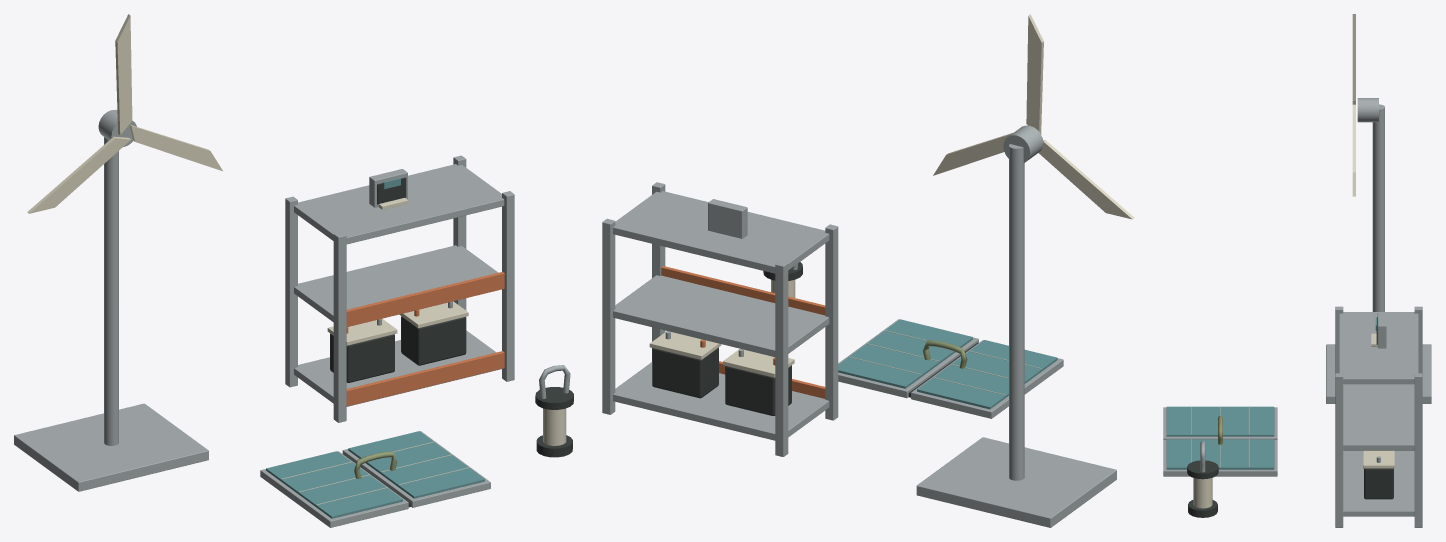
The model's file is off-grid-power-and-controls-renewable-camp-power-62a1dfba__3032.glb.
The picture shows the model from 3 angles, left to right: view 1: azimuth 30°, elevation 25°; view 2: azimuth 150°, elevation 25°; view 3: azimuth 270°, elevation 25°; orthographic projection. The views are drawn at different scales.
Visible parts, largest first — view 1: 002-battery-rack/0, 001-micro-wind-turbine/0, 000-folding-solar-panel/1, 002-battery-rack/1, 001-micro-wind-turbine/1, 000-folding-solar-panel/0, 004-lead-acid-battery/0, 003-lead-acid-battery/0, 006-hanging-lantern/0, 004-lead-acid-battery/1, 003-lead-acid-battery/1, 006-hanging-lantern/1; view 2: 002-battery-rack/0, 001-micro-wind-turbine/0, 000-folding-solar-panel/1, 001-micro-wind-turbine/1, 000-folding-solar-panel/0, 004-lead-acid-battery/0, 003-lead-acid-battery/0, 002-battery-rack/1, 005-charge-controller/0, 004-lead-acid-battery/1, 003-lead-acid-battery/1; view 3: 002-battery-rack/0, 000-folding-solar-panel/1, 001-micro-wind-turbine/0, 000-folding-solar-panel/0, 004-lead-acid-battery/0, 006-hanging-lantern/0, 001-micro-wind-turbine/1, 006-hanging-lantern/1, 004-lead-acid-battery/1, 005-charge-controller/0.
Part boxes in pixels (x1,y1,x2,y2): 002-battery-rack/0: (285, 155, 514, 422); 001-micro-wind-turbine/0: (14, 109, 208, 491); 000-folding-solar-panel/1: (266, 431, 484, 518); 002-battery-rack/1: (346, 271, 504, 406); 001-micro-wind-turbine/1: (27, 14, 222, 213); 000-folding-solar-panel/0: (260, 431, 490, 527); 004-lead-acid-battery/0: (401, 316, 466, 365); 003-lead-acid-battery/0: (330, 333, 394, 382); 006-hanging-lantern/0: (535, 387, 573, 457); 004-lead-acid-battery/1: (399, 301, 468, 328); 003-lead-acid-battery/1: (327, 318, 397, 345); 006-hanging-lantern/1: (543, 408, 566, 445); 002-battery-rack/0: (602, 182, 838, 456); 001-micro-wind-turbine/0: (916, 125, 1116, 527); 000-folding-solar-panel/1: (838, 319, 1057, 409); 001-micro-wind-turbine/1: (933, 14, 1134, 219); 000-folding-solar-panel/0: (838, 319, 1063, 418); 004-lead-acid-battery/0: (652, 347, 718, 398); 003-lead-acid-battery/0: (725, 365, 791, 415); 002-battery-rack/1: (661, 266, 825, 398); 005-charge-controller/0: (708, 199, 747, 238); 004-lead-acid-battery/1: (649, 332, 721, 359); 003-lead-acid-battery/1: (723, 348, 794, 377); 002-battery-rack/0: (1335, 306, 1422, 527); 000-folding-solar-panel/1: (1166, 406, 1274, 469); 001-micro-wind-turbine/0: (1326, 98, 1431, 403); 000-folding-solar-panel/0: (1163, 407, 1277, 476); 004-lead-acid-battery/0: (1364, 468, 1393, 499); 006-hanging-lantern/0: (1187, 460, 1218, 517); 001-micro-wind-turbine/1: (1352, 14, 1355, 196); 006-hanging-lantern/1: (1193, 477, 1212, 508); 004-lead-acid-battery/1: (1363, 450, 1394, 468); 005-charge-controller/0: (1377, 313, 1386, 348).
Size of the model in its own units: 2.54 by 2.29 by 1.52.
